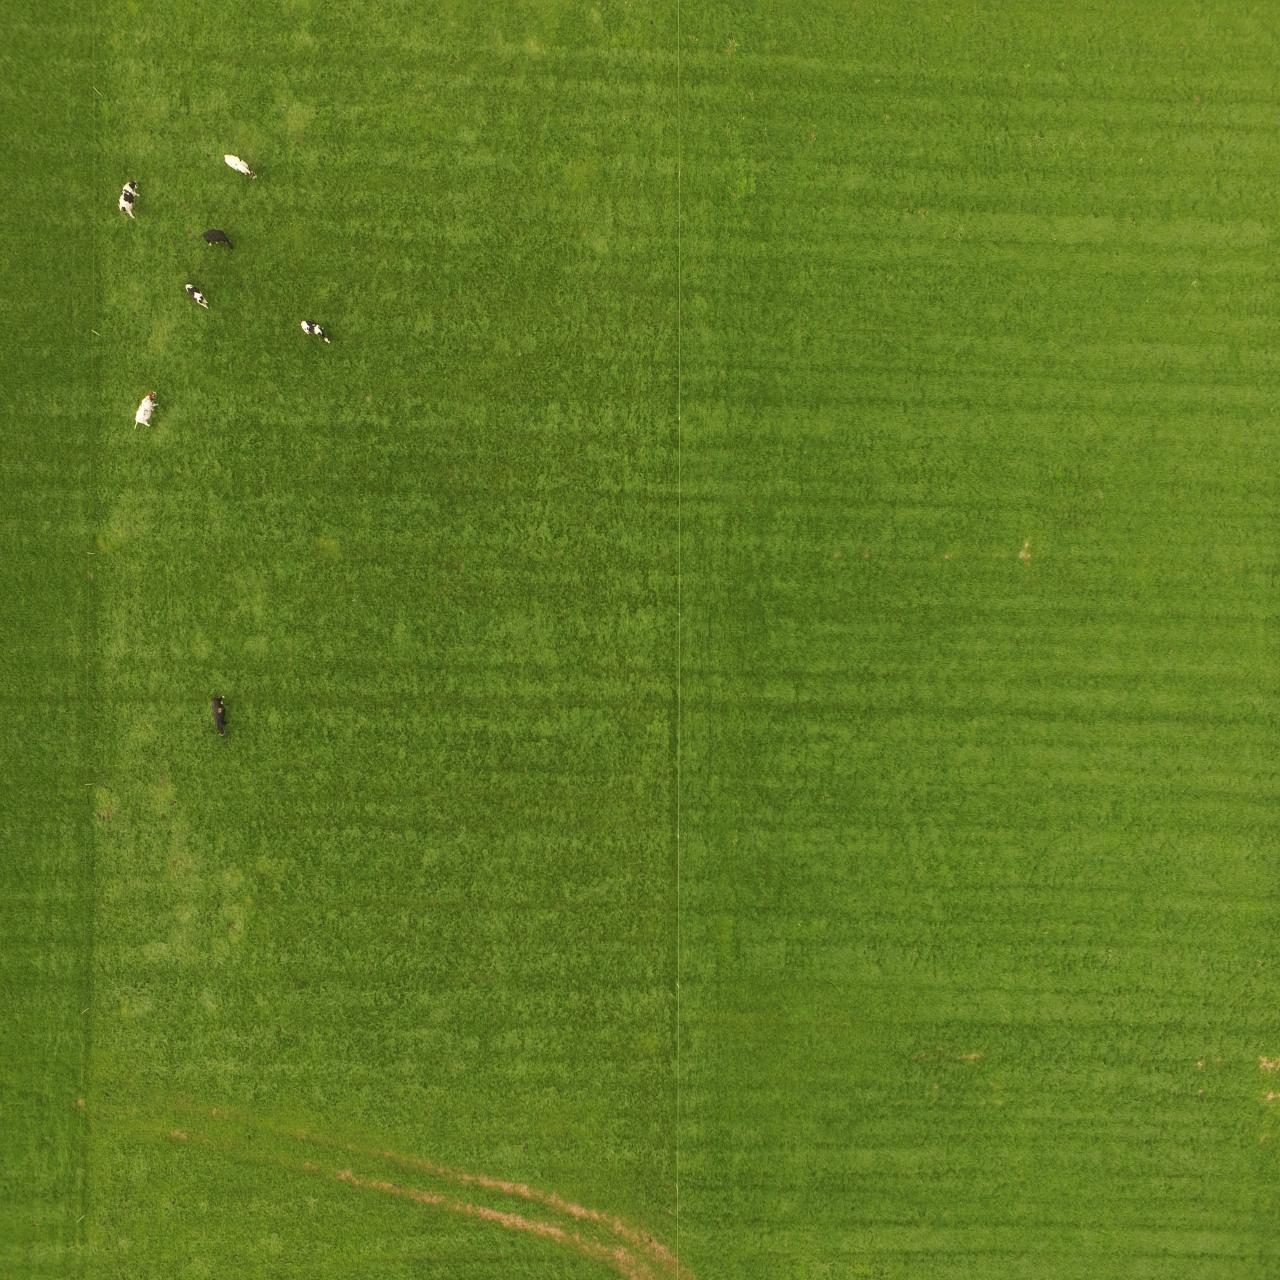cow: (220, 150, 263, 182), (129, 387, 158, 430), (116, 177, 139, 222), (203, 225, 236, 254), (182, 282, 211, 312), (211, 694, 230, 736), (301, 319, 331, 346)
